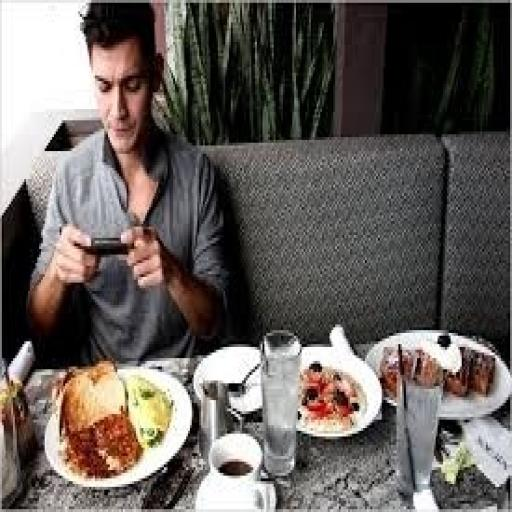eating: (26, 0, 237, 364)
